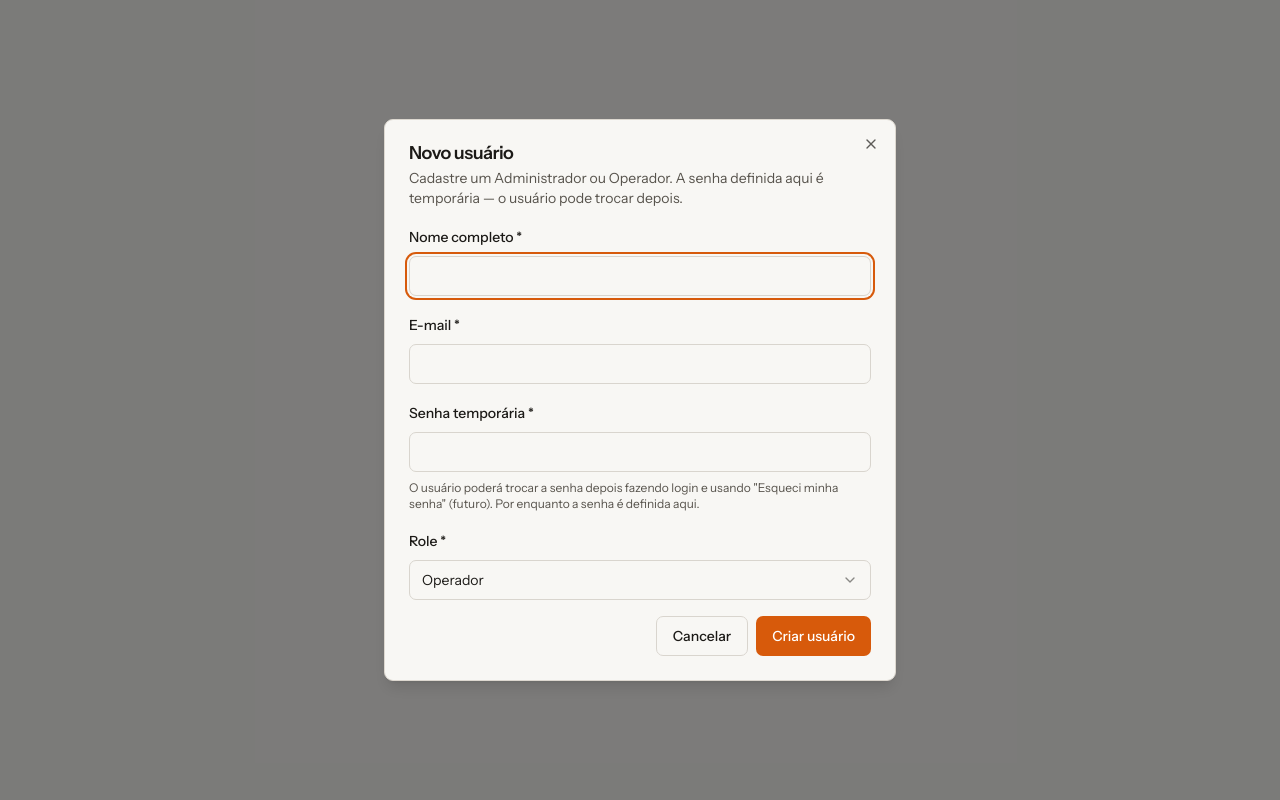
Test: <NovoUsuarioDialog> › distribui detalhes de 422 nos campos correspondentes
Type "Maria Silva" into the field labelled "Nome completo *" at [640, 276], box left=409, top=256, right=871, bottom=296
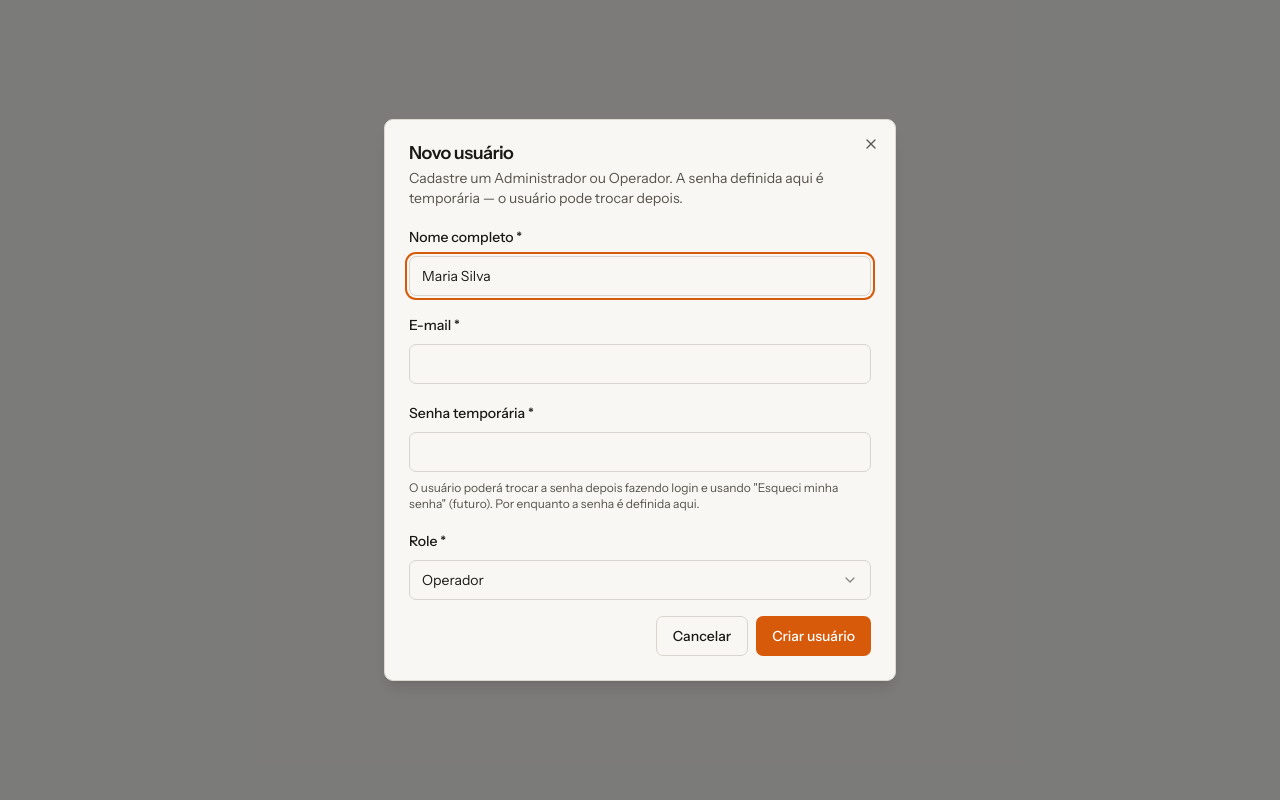
Type "maria@autocore.com" into the field labelled "E-mail *" at [640, 364], box left=409, top=344, right=871, bottom=384
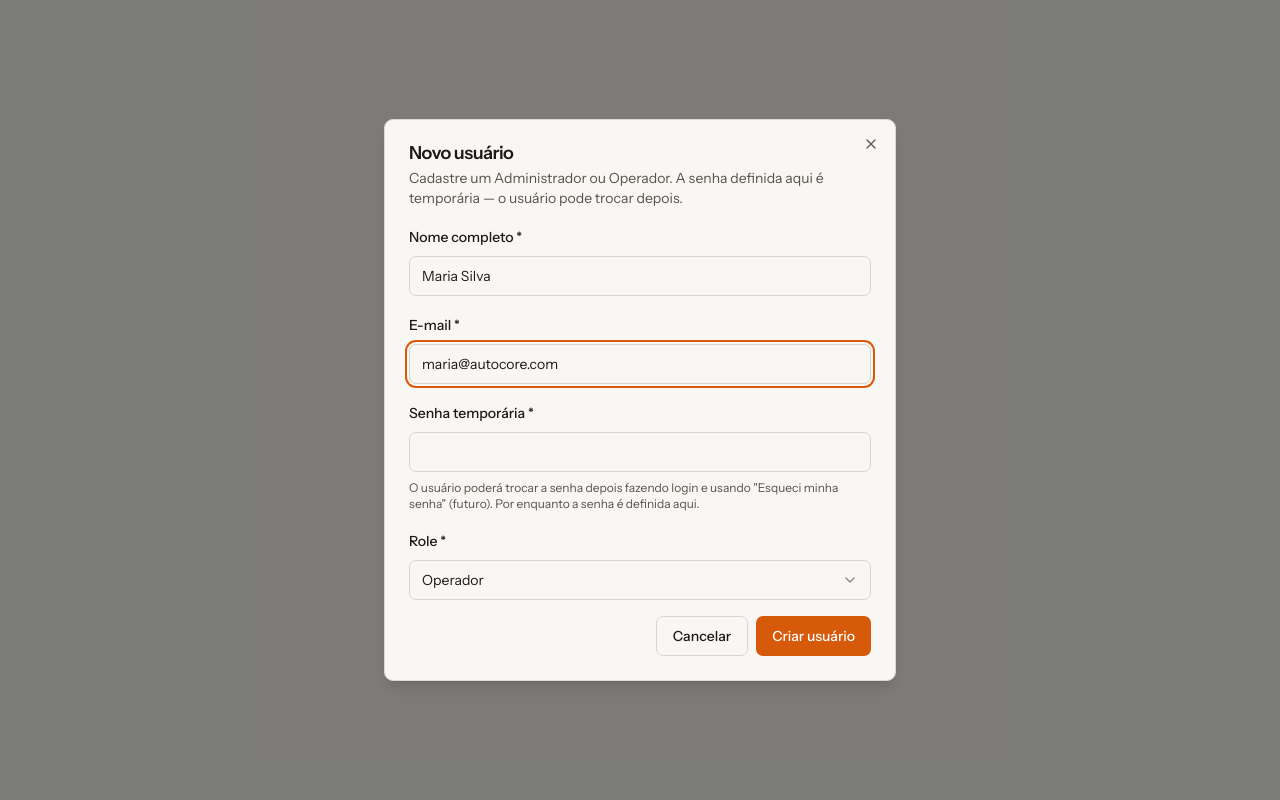
Type "senha1234" into the password field labelled "Senha temporária *" at [640, 452], box left=409, top=432, right=871, bottom=472
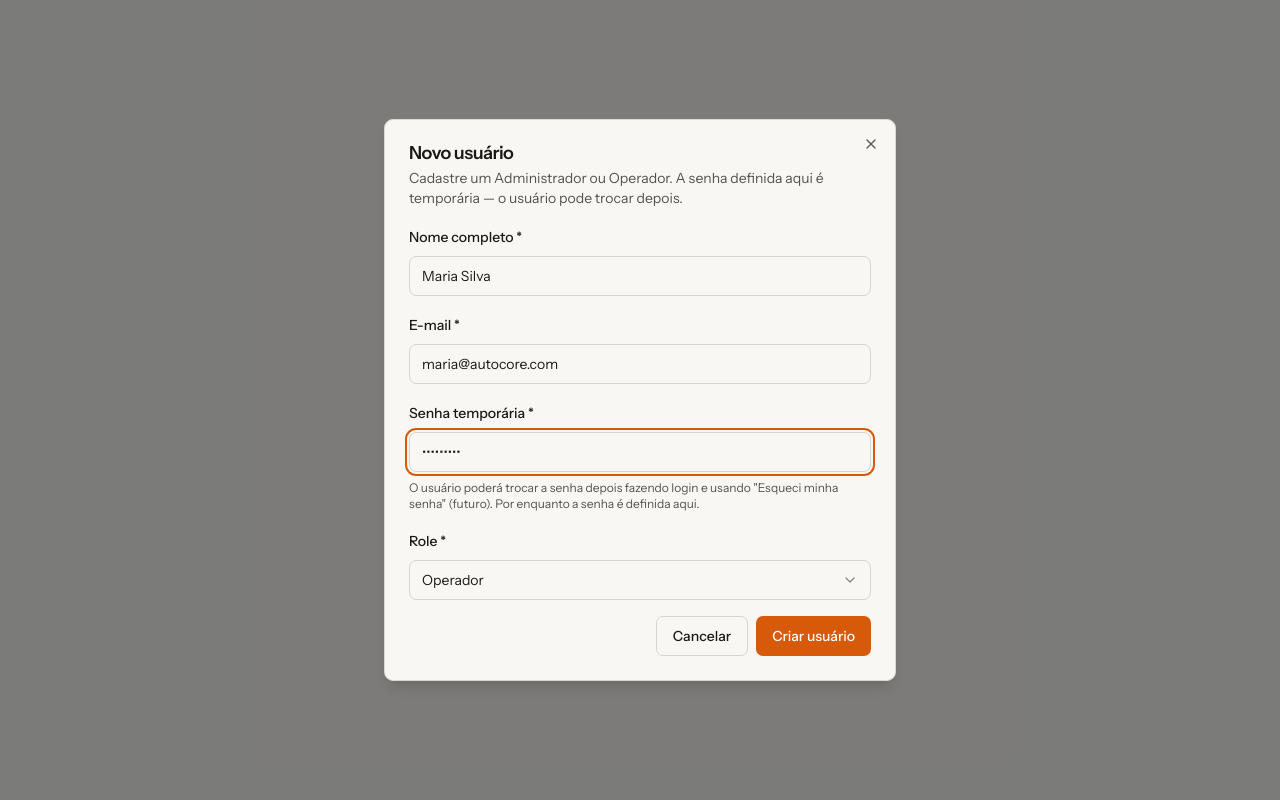
Click the button "Criar usuário" at [814, 636], box left=756, top=616, right=871, bottom=656
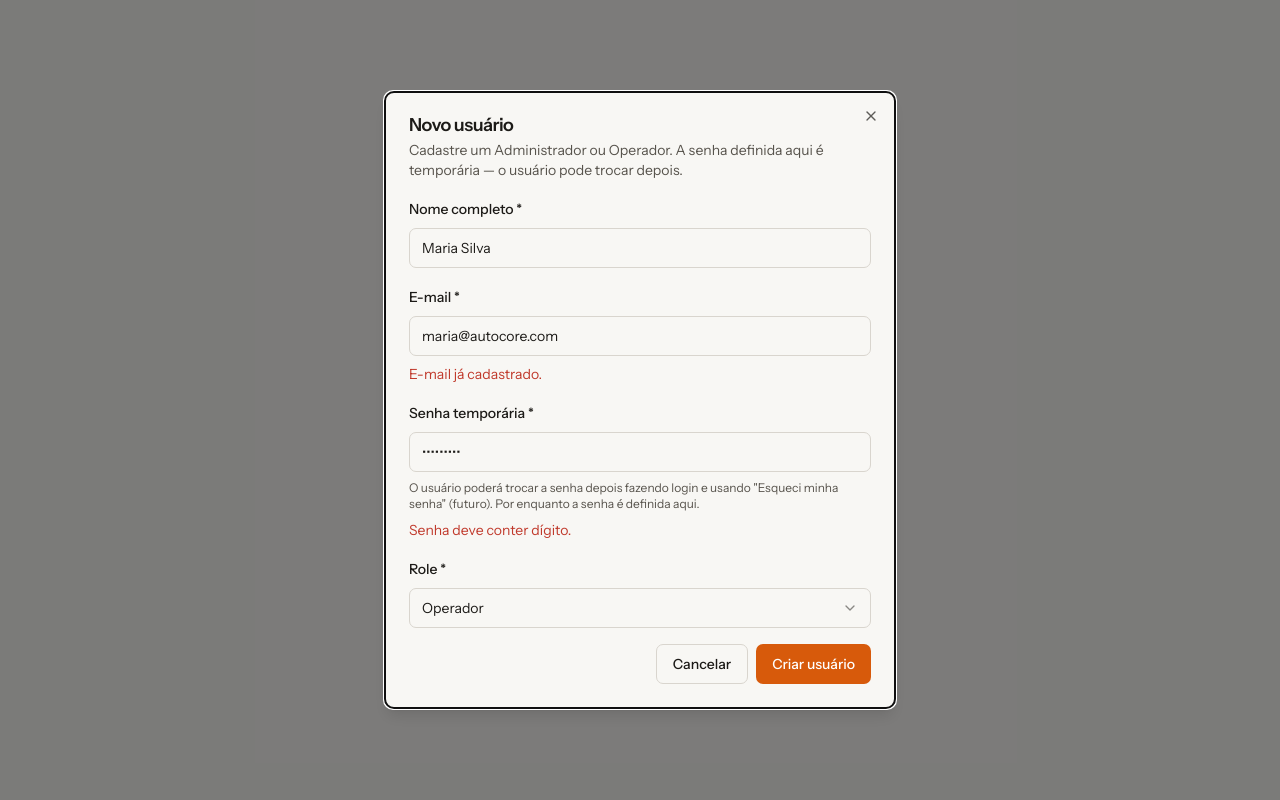
Now the text "E-mail já cadastrado." is shown, box left=409, top=365, right=542, bottom=383
Now the text "Senha deve conter dígito." is shown, box left=409, top=521, right=571, bottom=539
